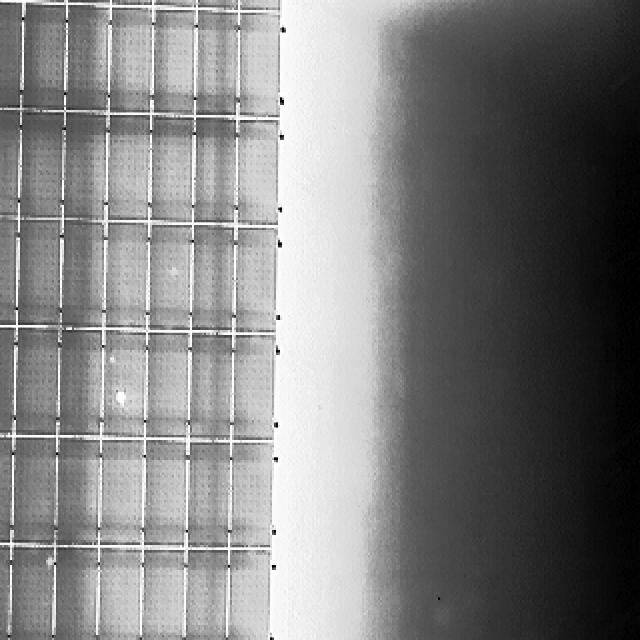Hotspots: (112, 382, 132, 408), (44, 552, 56, 573)
PV-modules: (147, 331, 197, 440), (229, 333, 277, 443), (21, 108, 69, 217), (187, 332, 233, 442), (58, 221, 104, 331), (95, 439, 141, 549), (235, 227, 282, 334), (108, 10, 154, 119), (192, 120, 238, 229), (140, 442, 186, 551), (227, 442, 273, 550), (14, 440, 60, 548), (194, 13, 240, 121), (151, 220, 197, 328), (18, 220, 63, 330), (190, 221, 235, 330), (106, 115, 152, 221), (16, 328, 61, 436), (57, 331, 102, 438), (64, 7, 108, 116), (239, 119, 283, 227), (106, 223, 150, 330), (104, 329, 147, 438), (155, 120, 198, 229), (62, 109, 105, 218), (187, 443, 230, 552), (26, 5, 68, 115), (58, 439, 100, 549), (240, 12, 282, 122), (158, 10, 200, 116), (11, 550, 57, 640), (224, 550, 270, 640), (92, 550, 138, 640), (55, 546, 99, 638), (138, 549, 183, 636), (188, 552, 230, 640), (0, 2, 22, 110), (0, 112, 16, 220), (0, 212, 14, 322), (0, 438, 12, 542), (0, 325, 10, 435), (0, 547, 6, 640), (240, 0, 282, 12), (196, 0, 240, 8), (150, 0, 194, 8), (110, 0, 154, 5), (26, 0, 70, 2), (66, 0, 110, 2)
